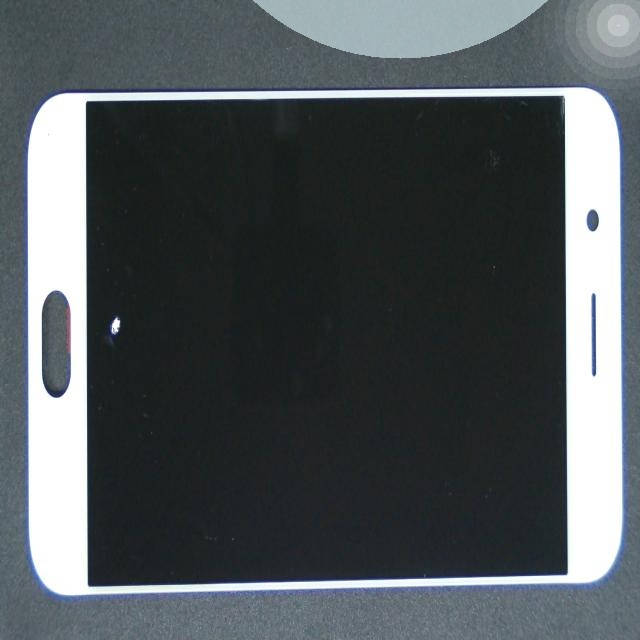stain: (46, 176, 160, 547)
